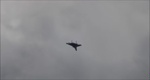maybay_muctieu: (65, 39, 82, 51)
